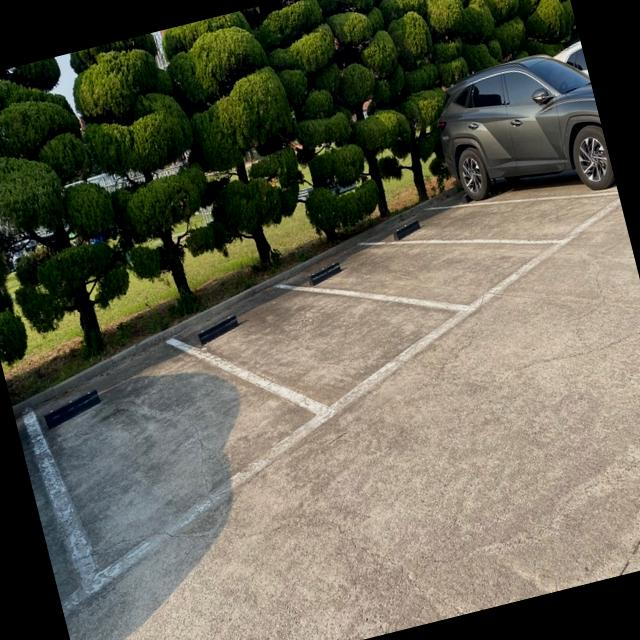free: (19, 330, 342, 601), (156, 279, 480, 424), (264, 237, 577, 318), (340, 191, 619, 244)
